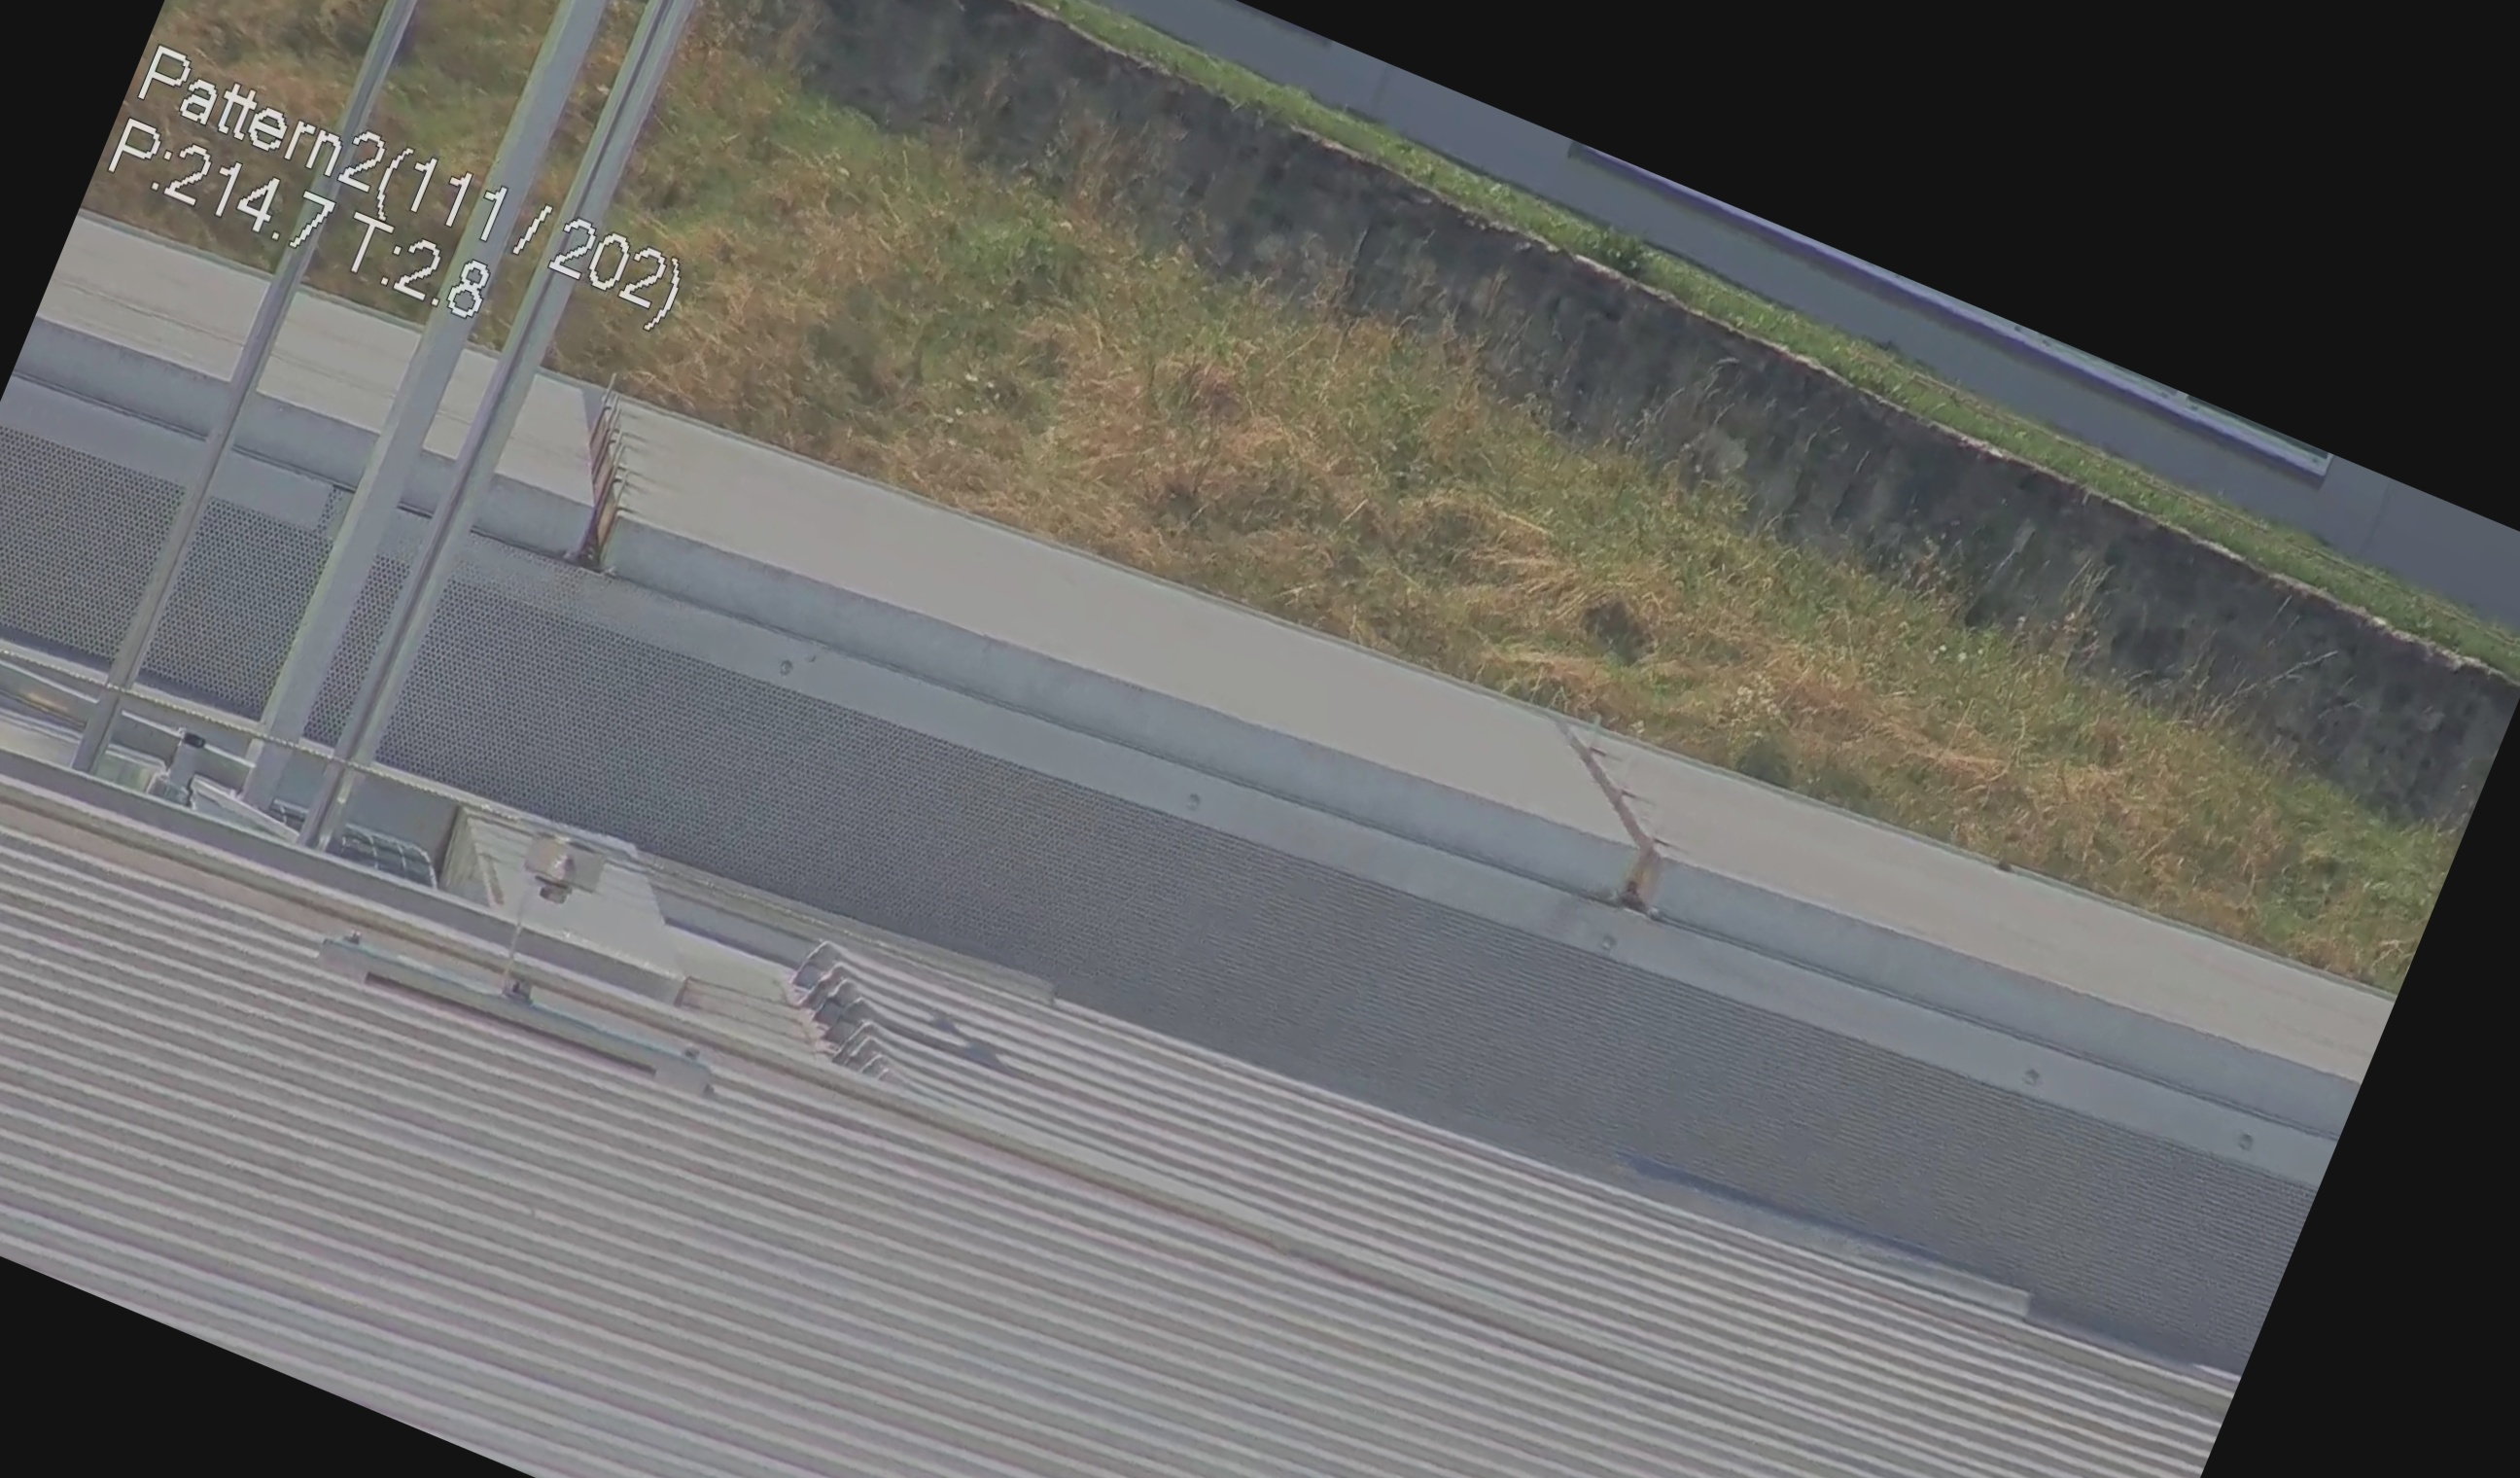Other: (756, 924, 934, 1105)
